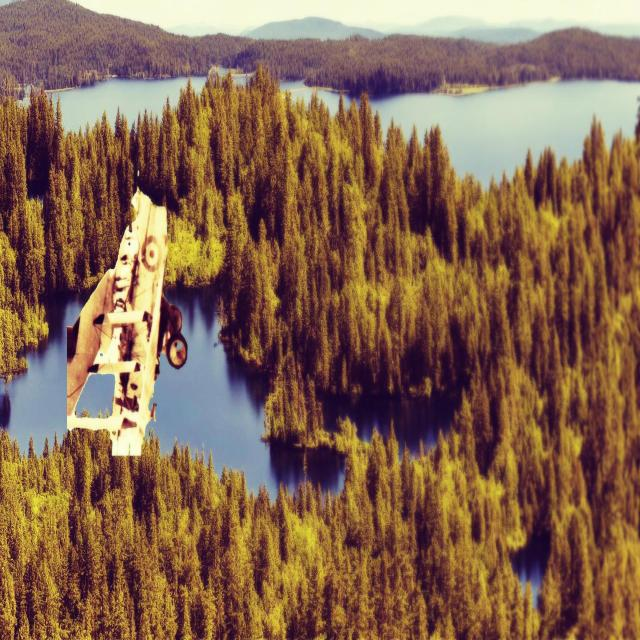airplane: (66, 184, 188, 457)
